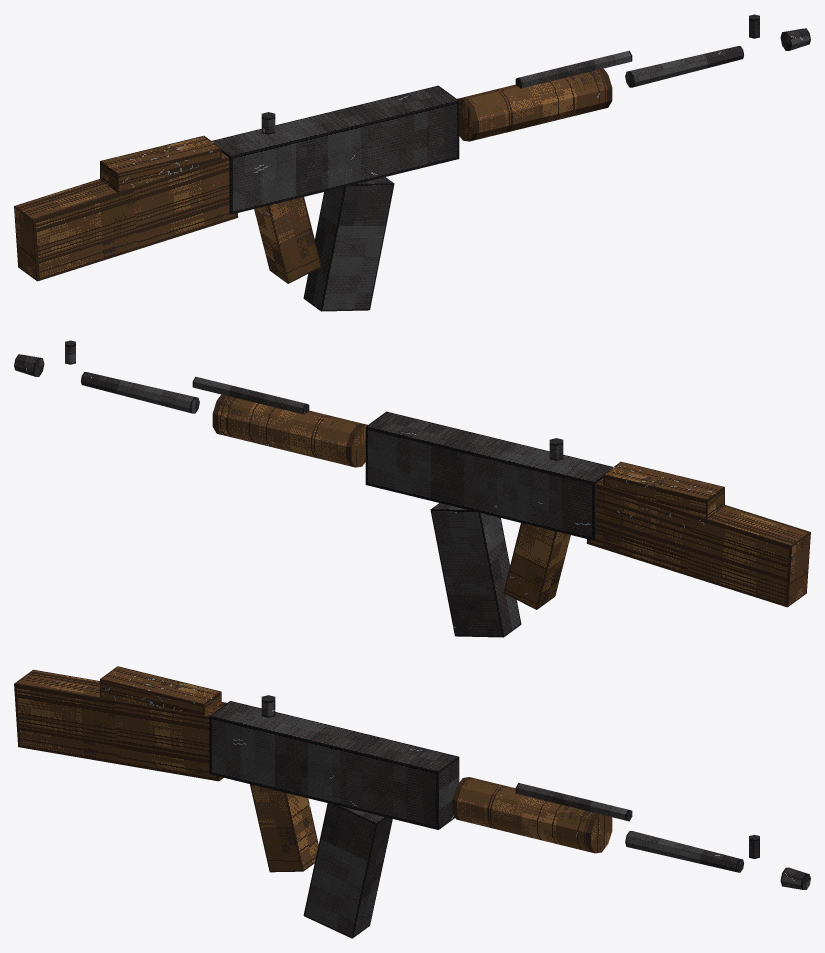
File: SM_Rifle_02.glb
3 views of the same model, one above another, from view 1: azimuth 30°, elevation 25°; view 2: azimuth 150°, elevation 25°; view 3: azimuth 330°, elevation 25° (orthographic).
Visible parts, largest first — view 1: SM_Rifle_02; view 2: SM_Rifle_02; view 3: SM_Rifle_02.
Part boxes in pixels (x1=…): SM_Rifle_02: x1=14, y1=14, x2=810, y2=311; SM_Rifle_02: x1=14, y1=340, x2=810, y2=637; SM_Rifle_02: x1=14, y1=666, x2=810, y2=938.
Size of the model in its own units: 1.13 by 0.2906 by 0.0533.
1 material, 1 textured.
